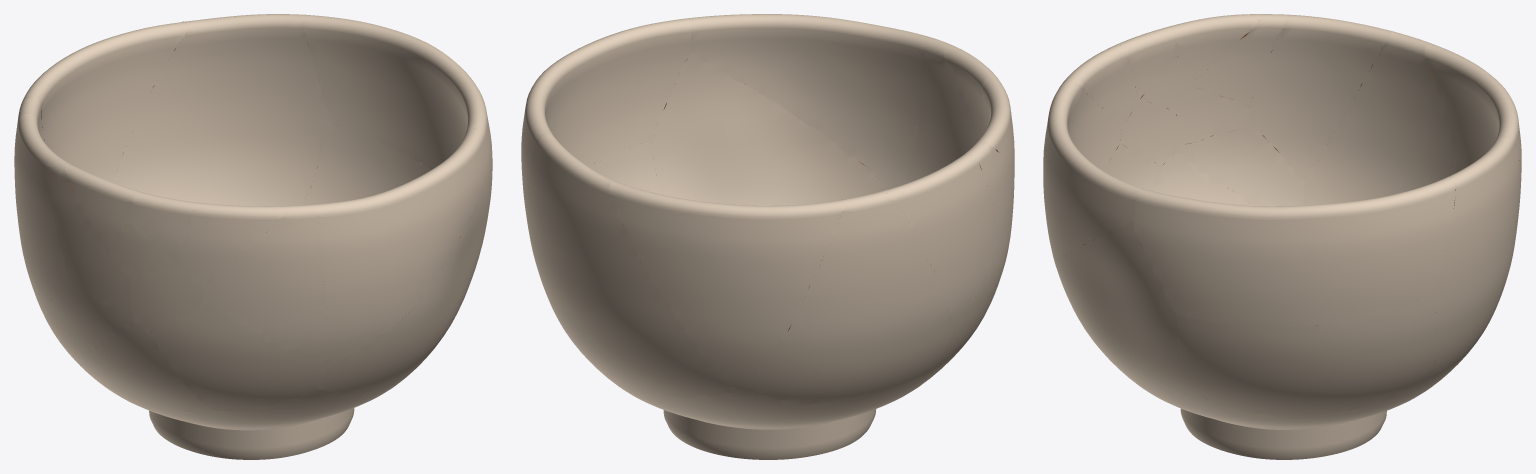
Rendered from Z5_fling.glb.
The picture shows the model from 3 angles, left to right: view 1: azimuth 30°, elevation 25°; view 2: azimuth 150°, elevation 25°; view 3: azimuth 270°, elevation 25°; orthographic projection.
Parts seen in each view (by area): view 1: shard_18, shard_14, shard_17, shard_16, shard_09, shard_11, shard_00, shard_15, shard_12, shard_19, shard_08, shard_05 (+8 smaller); view 2: shard_16, shard_13, shard_18, shard_14, shard_15, shard_17, shard_00, shard_08, shard_09, shard_19, shard_05, shard_10 (+4 smaller); view 3: shard_17, shard_19, shard_13, shard_08, shard_15, shard_18, shard_00, shard_14, shard_16, shard_10, shard_04, shard_02 (+8 smaller).
Part boxes in pixels (x1,y1,x2,y2): shard_18: (114, 14, 330, 206); shard_14: (313, 129, 487, 364); shard_17: (301, 14, 492, 201); shard_16: (24, 22, 187, 182); shard_09: (200, 204, 330, 361); shard_11: (150, 302, 330, 410); shard_00: (67, 351, 409, 459); shard_15: (319, 159, 491, 394); shard_12: (72, 320, 213, 411); shard_19: (303, 123, 430, 204); shard_08: (15, 113, 65, 311); shard_05: (173, 202, 289, 287); shard_16: (610, 181, 844, 390); shard_13: (748, 190, 953, 403); shard_18: (528, 134, 737, 397); shard_14: (687, 14, 933, 188); shard_15: (651, 54, 888, 205); shard_17: (521, 18, 691, 225); shard_00: (571, 340, 944, 459); shard_08: (884, 154, 997, 328); shard_09: (907, 38, 978, 183); shard_19: (527, 140, 660, 328); shard_05: (943, 45, 999, 139); shard_10: (934, 233, 1010, 368); shard_17: (1133, 177, 1455, 327); shard_19: (1175, 293, 1438, 417); shard_13: (1303, 31, 1456, 205); shard_08: (1248, 14, 1393, 181); shard_15: (1055, 222, 1189, 392); shard_18: (1433, 138, 1521, 369); shard_00: (1125, 359, 1462, 459); shard_14: (1043, 91, 1143, 263); shard_16: (1424, 44, 1521, 172); shard_10: (1175, 124, 1303, 206); shard_04: (1196, 14, 1285, 106); shard_02: (1168, 14, 1260, 79).
Size of the model in its own units: 0.1228 by 0.0871 by 0.122.
